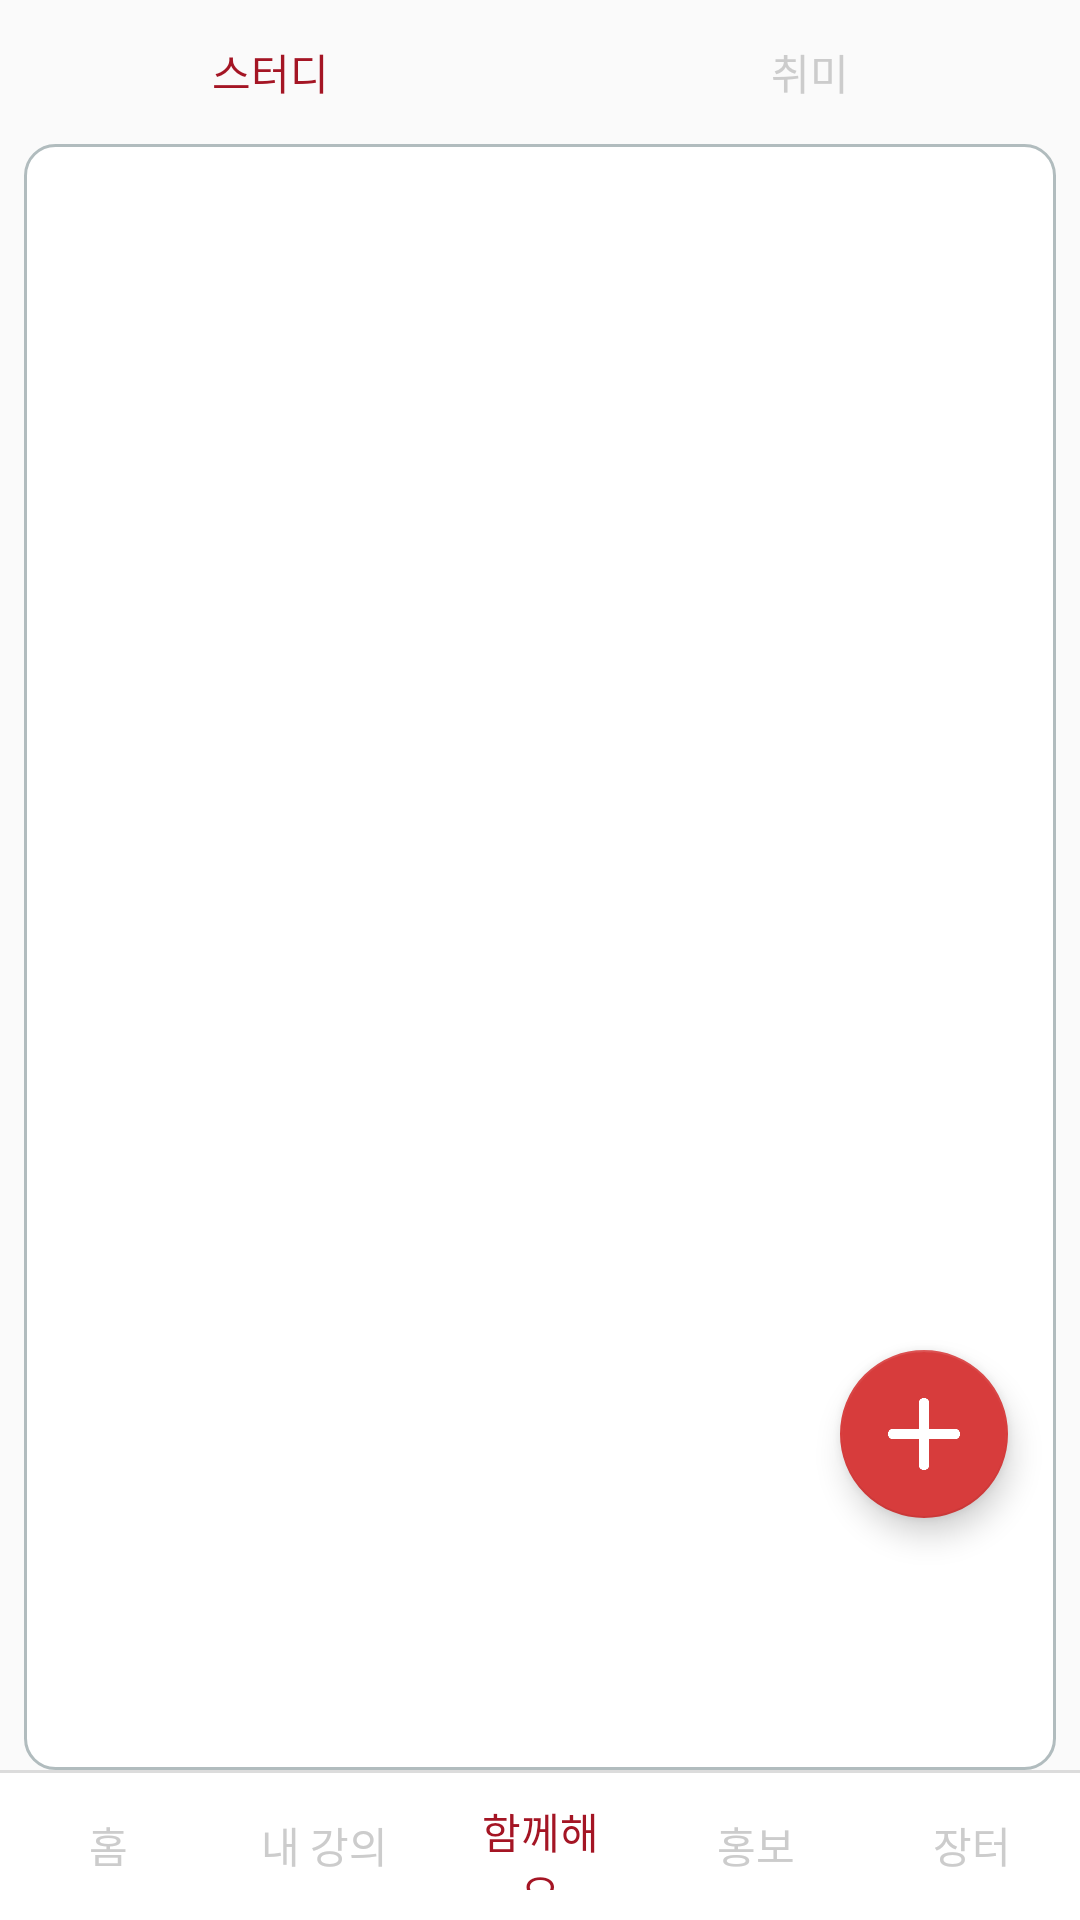

Icon bounding boxes for this 1080px x 1920px phone screenshot, format [x1,y1,x2,y2]:
add: [840,1350,1008,1518]
